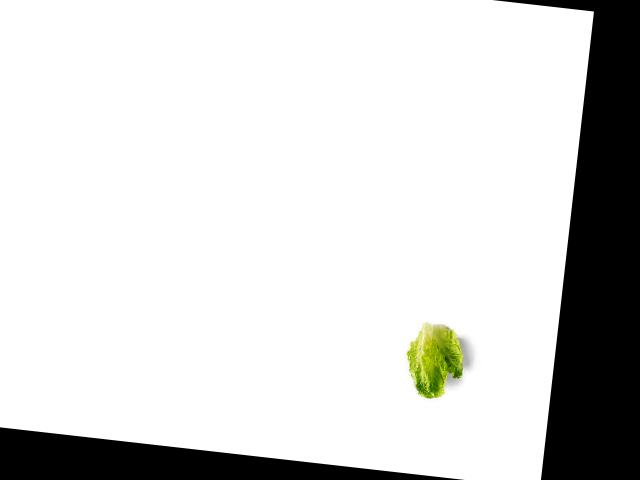lettuce: (399, 313, 469, 406)
